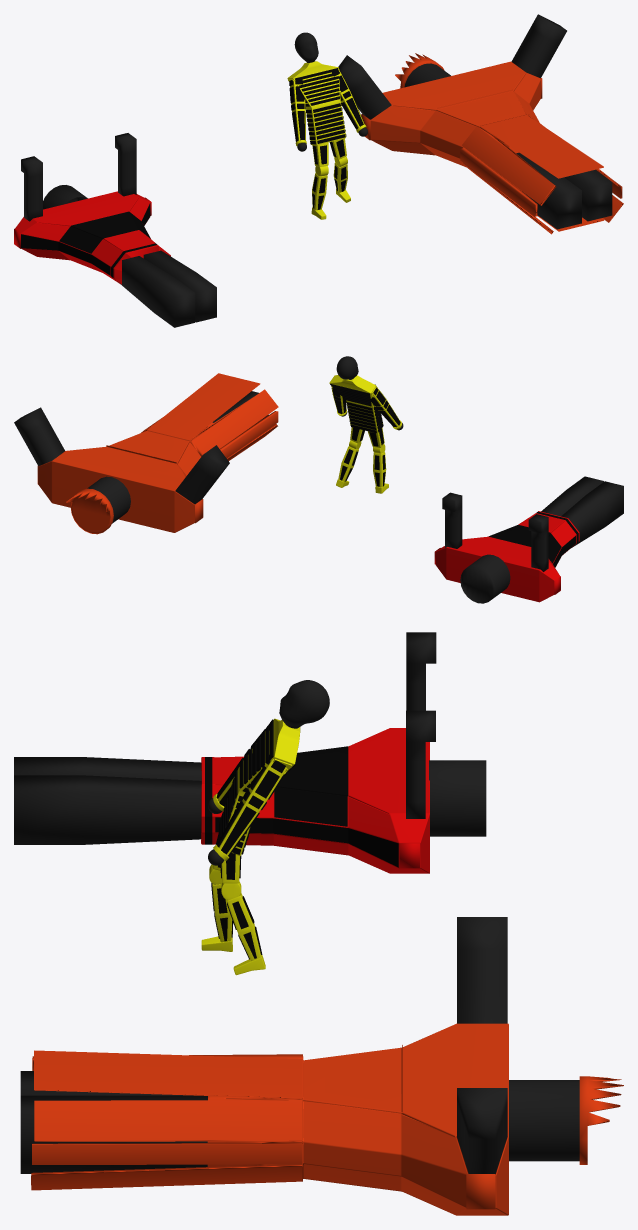
File: Models Fixed.fbx
3 renders of one model, top to bottom at view 1: azimuth 30°, elevation 25°; view 2: azimuth 150°, elevation 25°; view 3: azimuth 270°, elevation 25°, orthographic. The views are drawn at different scales.
Parts seen in each view (by area): view 1: Fused, Advancer, Following_Enemy; view 2: Fused, Advancer, Following_Enemy; view 3: Fused, Advancer, Following_Enemy.
Boxes of the visible parts, bbox=[...] form: Fused: bbox=[338, 14, 623, 234]; Advancer: bbox=[14, 133, 216, 327]; Following_Enemy: bbox=[287, 32, 367, 219]; Fused: bbox=[14, 373, 278, 534]; Advancer: bbox=[434, 476, 623, 603]; Following_Enemy: bbox=[329, 356, 403, 493]; Fused: bbox=[20, 917, 623, 1215]; Advancer: bbox=[14, 632, 486, 873]; Following_Enemy: bbox=[201, 680, 329, 975].
Bounding box in the file's own units: 5.85 × 1.83 × 3.15.
